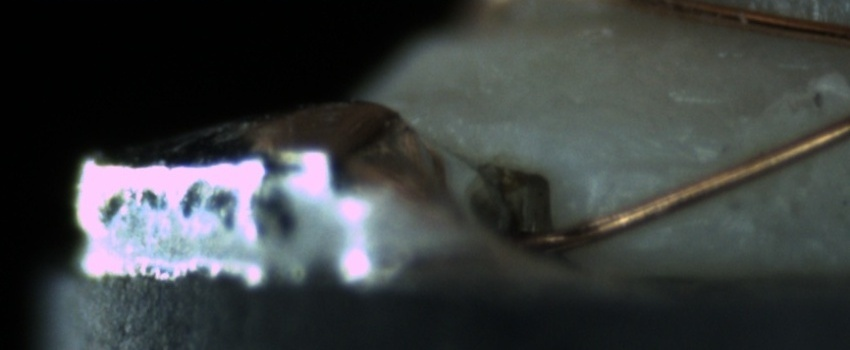DL: (598, 133, 730, 197)
